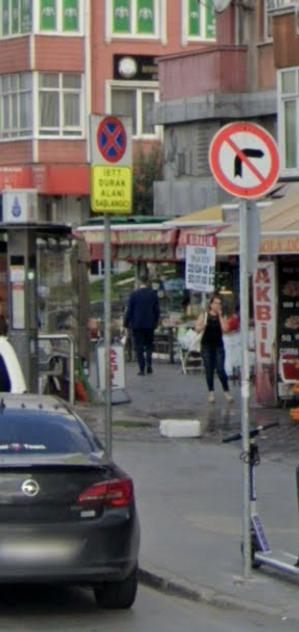rightturnsareforbidden: (208, 120, 278, 194)
